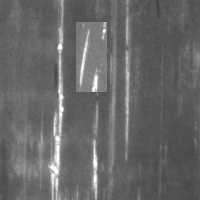scratches: (46, 1, 67, 199), (118, 1, 135, 160), (87, 70, 104, 200), (76, 22, 107, 92)
